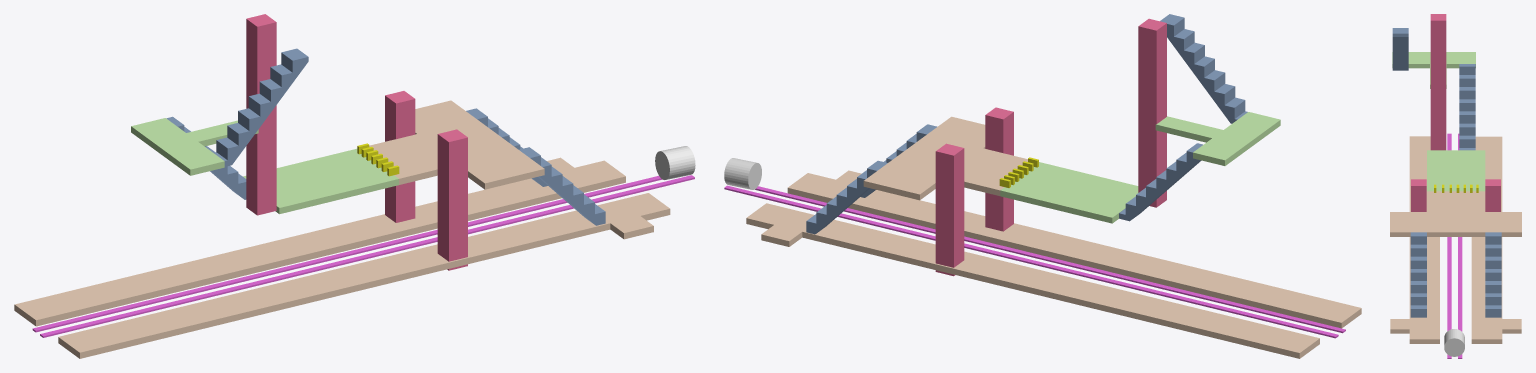
Rendered from pinar-rey.glb.
3 views of the same model, side by side, from view 1: azimuth 30°, elevation 25°; view 2: azimuth 150°, elevation 25°; view 3: azimuth 270°, elevation 25° (orthographic). The views are drawn at different scales.
Parts seen in each view (by area): view 1: suelo.001, suelo.003, suelo-dentro, suelo, ascensor derecho.002, ascensor derecho.001, Cube.010, Plane.001, Plane.002, suelo.002, ascensor derecho, Cube.008 (+4 smaller); view 2: suelo.003, suelo.001, suelo-dentro, suelo, ascensor derecho.002, ascensor derecho, Plane.002, Cube.010, Plane.001, suelo.002, ascensor derecho.001, Cube.007 (+3 smaller); view 3: suelo-dentro, suelo.003, suelo.001, suelo, ascensor derecho.002, Cube.007, Cube.008, Cube.009, suelo.002, Cube.010, Plane.001, ascensor derecho.001 (+3 smaller).
Boxes of the visible parts, x1,y1,x2,y2 form: suelo.001: (58,193,670,358); suelo.003: (14,157,625,326); suelo-dentro: (369,100,544,189); suelo: (243,148,398,214); ascensor derecho.002: (246,14,276,215); ascensor derecho.001: (437,129,467,270); Cube.010: (213,48,308,166); Plane.001: (40,175,694,337); Plane.002: (32,175,662,332); suelo.002: (131,118,224,175); ascensor derecho: (385,91,415,222); Cube.008: (519,147,605,225); suelo.003: (746,203,1319,358); suelo.001: (787,170,1361,328); suelo-dentro: (863,116,1027,200); suelo: (1000,162,1138,223); ascensor derecho.002: (1138,18,1166,207); ascensor derecho: (935,143,964,276); Plane.002: (724,185,1338,338); Cube.010: (1160,14,1247,123); Plane.001: (755,186,1345,333); suelo.002: (1193,112,1280,165); ascensor derecho.001: (985,107,1013,231); Cube.007: (1119,143,1202,221); suelo-dentro: (1390,191,1521,236); suelo.003: (1471,136,1521,343); suelo.001: (1390,136,1439,343); suelo: (1427,150,1485,191); ascensor derecho.002: (1430,14,1446,150); Cube.007: (1459,64,1475,150); Cube.008: (1410,232,1426,317); Cube.009: (1485,232,1501,317); suelo.002: (1392,52,1475,68); Cube.010: (1392,28,1408,70); Plane.001: (1447,133,1451,358); ascensor derecho.001: (1411,179,1426,211).
Bounding box in the file's own units: 10.89 × 4.42 × 2.71.
